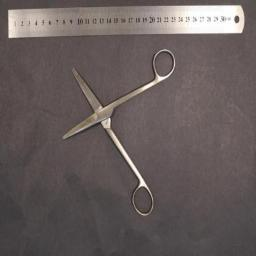Curved Mayo Scissors: (63, 48, 175, 218)
